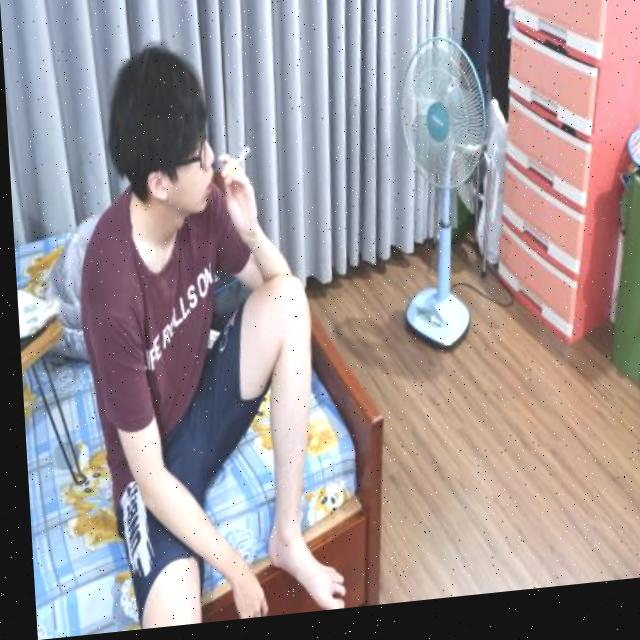cigarette: (225, 150, 250, 181)
